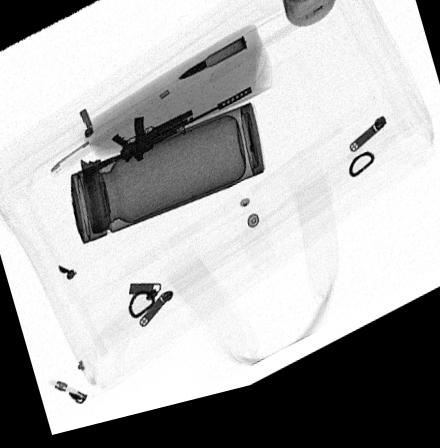Bullet: (179, 50, 246, 89)
Gun: (80, 100, 253, 185)
